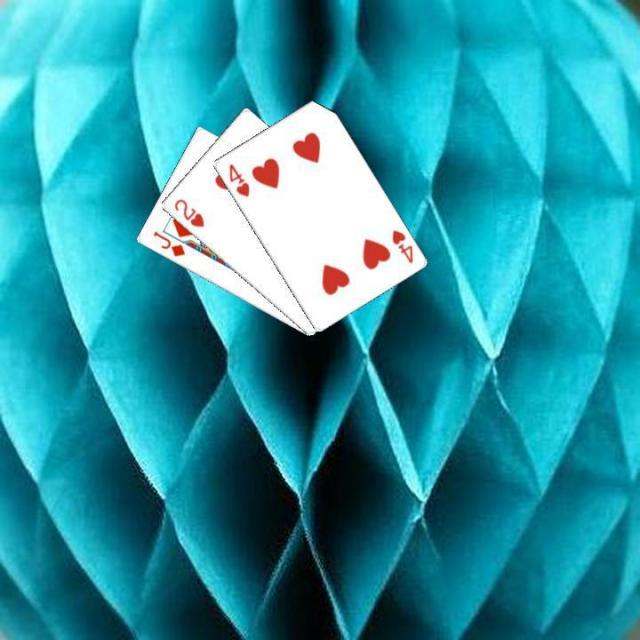2H: (170, 195, 206, 229)
4H: (224, 159, 250, 198), (388, 226, 414, 265)
JD: (149, 228, 187, 259)
